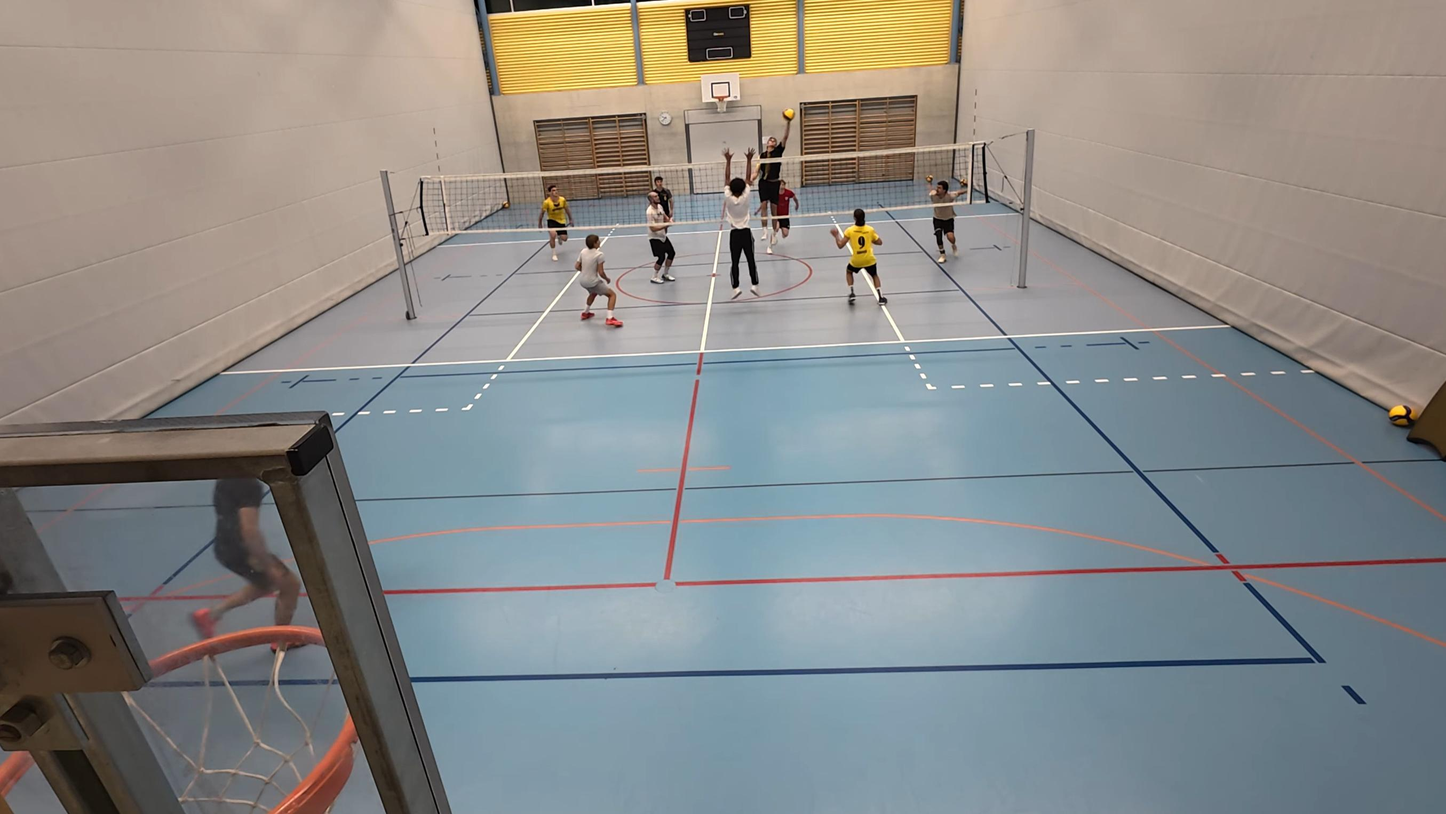attacco: (748, 107, 800, 250)
muro: (717, 164, 762, 302)
